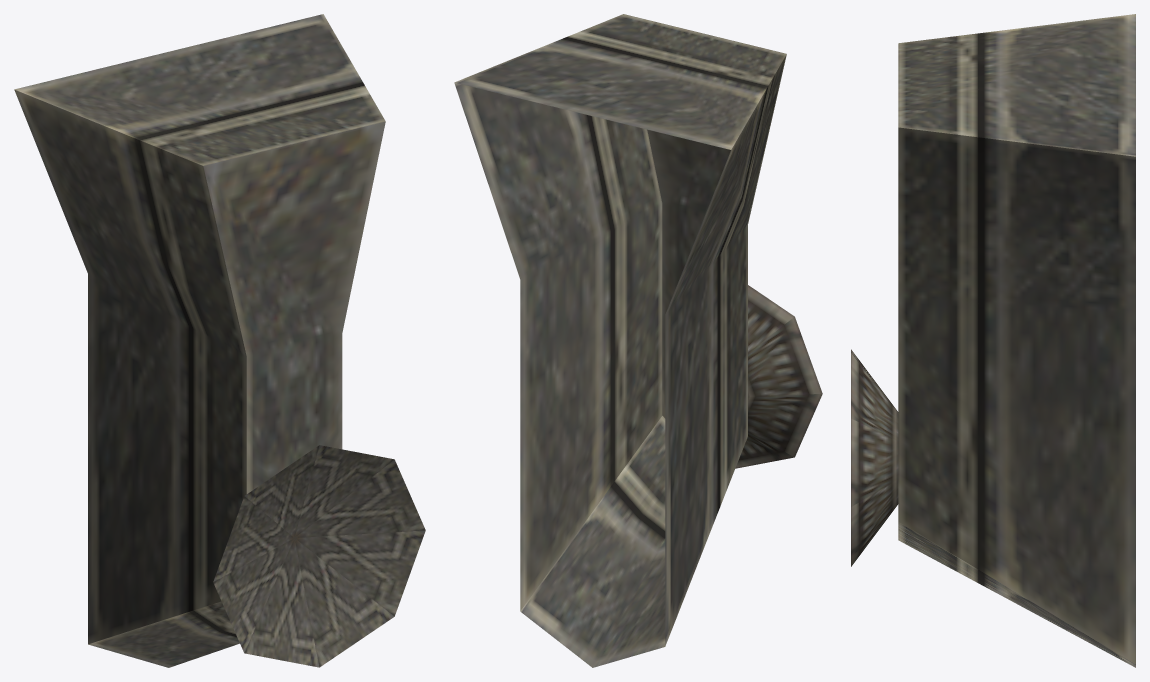
Rendered from Dungeon06_c 1.fbx.
The picture shows the model from 3 angles, left to right: view 1: azimuth 30°, elevation 25°; view 2: azimuth 150°, elevation 25°; view 3: azimuth 270°, elevation 25°; orthographic projection. The views are drawn at different scales.
Parts seen in each view (by area): view 1: Dungeon06_c; view 2: Dungeon06_c; view 3: Dungeon06_c.
Boxes of the visible parts, x1,y1,x2,y2 form: Dungeon06_c: [14, 14, 425, 667]; Dungeon06_c: [454, 14, 822, 667]; Dungeon06_c: [851, 14, 1135, 667].
Bounding box in the file's own units: 61.45 × 117 × 51.84.
1 material, 1 textured.
